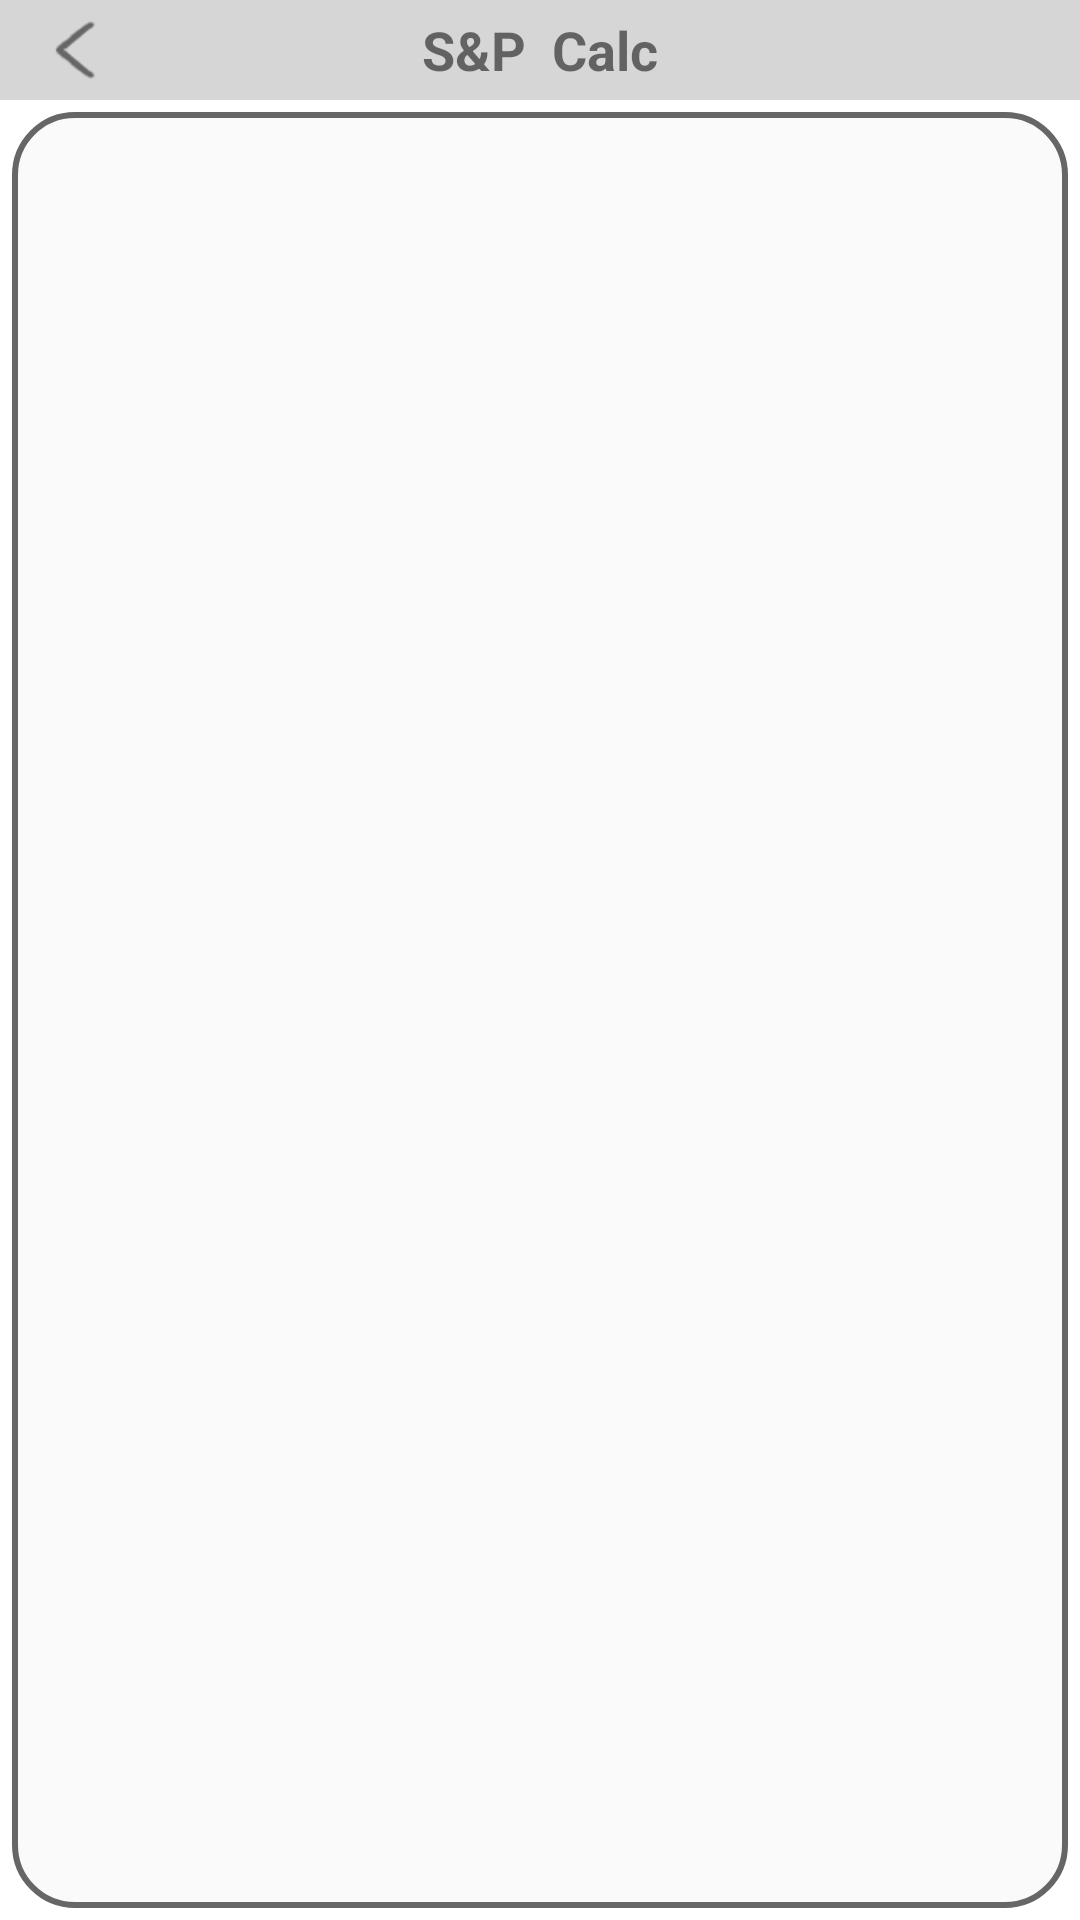

Locate icon controls on the screen. Image size 1080px x 1920px, boxes as (left=x1, top=y1, right=x2, bottom=y2).
back: (left=56, top=22, right=94, bottom=78)
